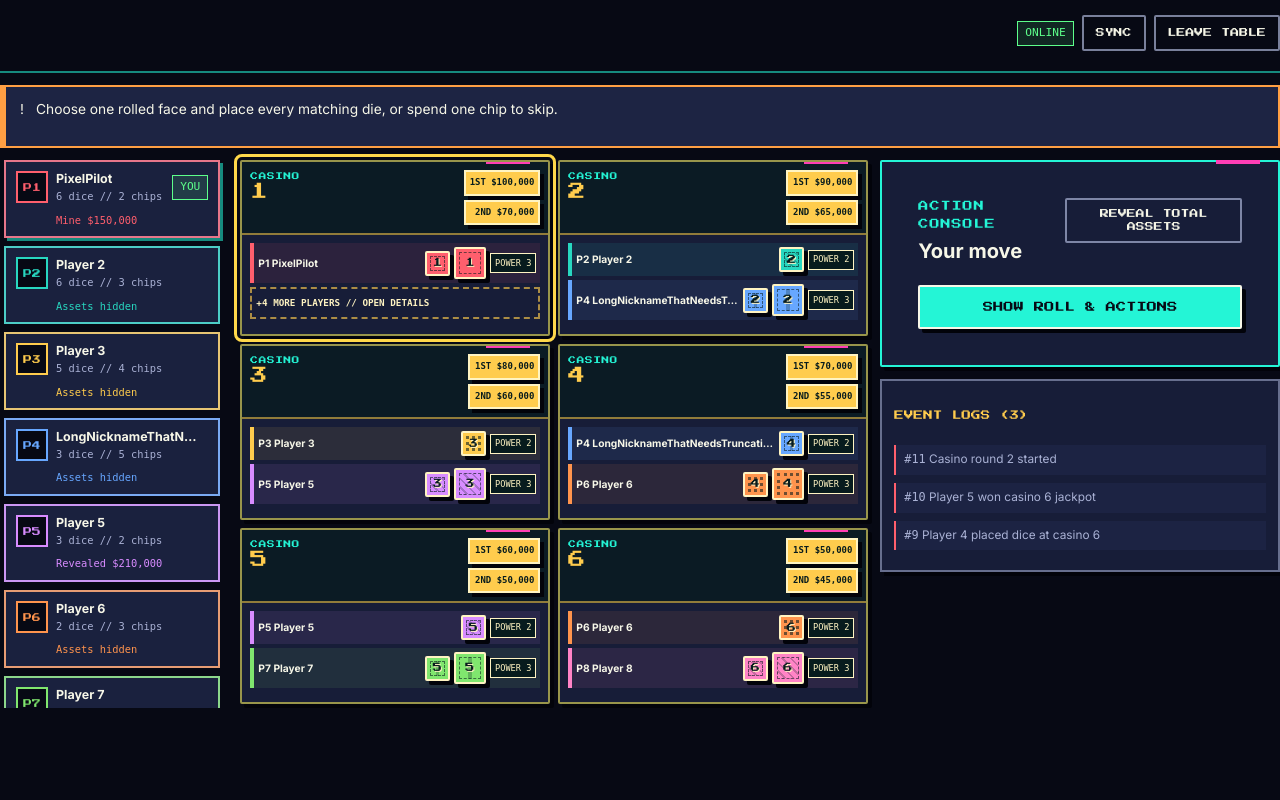
it: deterministic game views › opens a keyboard-accessible casino dialog with every player die and influence
This screenshot has width=1280, height=800.
Expected: the text "+4 more players // open details" is shown, [250,287,540,319]
Press Enter in the button with aria-label "Open Casino 1 details, 5 players", box [240,160,550,336]
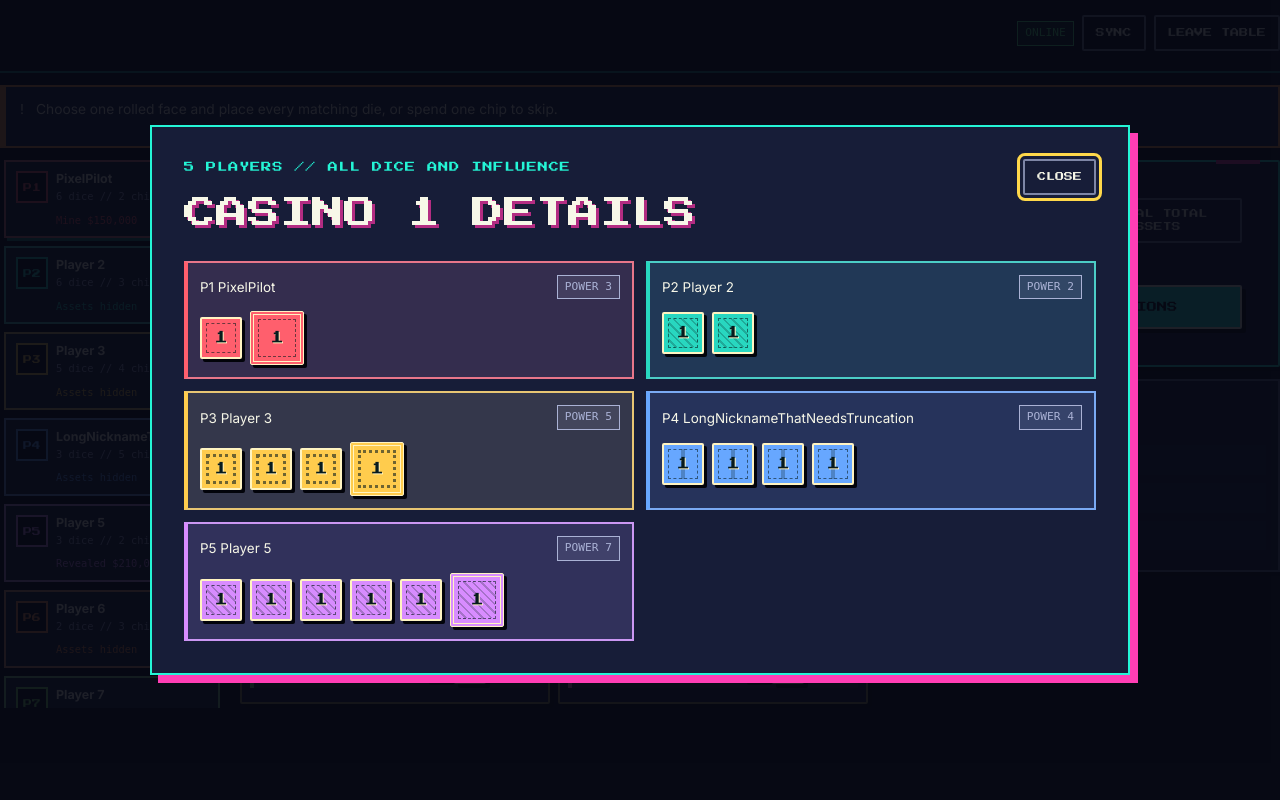
Expected: the text "Power 3" is shown 5 times, [557,274,620,299]; [1019,274,1082,299]; [557,405,620,430]; [1019,405,1082,430]; [557,536,620,561]
Expected: the heading "P5 Player 5" is shown, [200,538,272,559]
Click the button with aria-label "Close dialog" at coordinates (1060, 177), box [1023,159,1096,195]
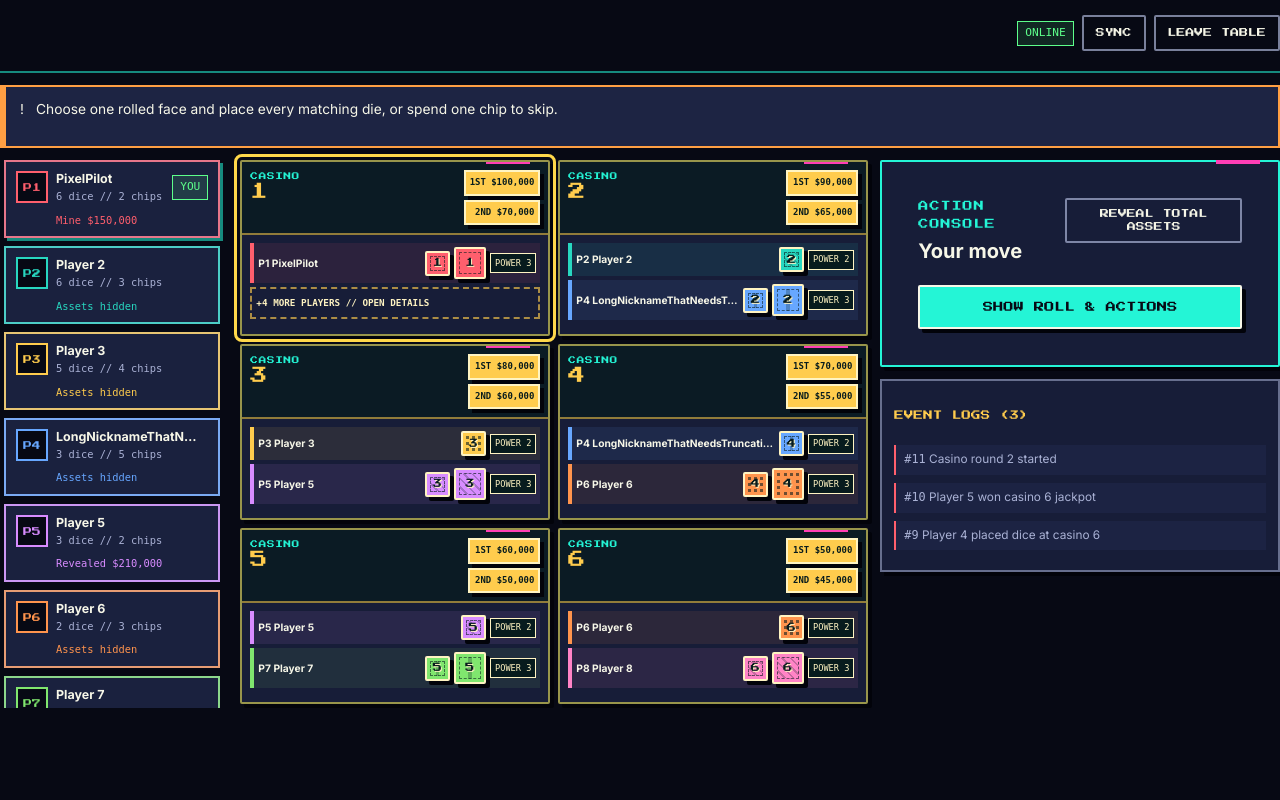
Expected: the heading "Casino 1 details" is gone
